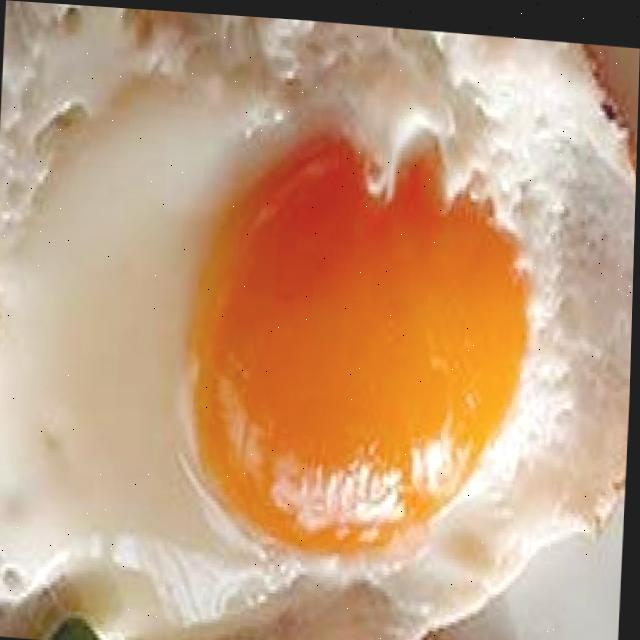鸡蛋料理: (17, 2, 609, 640)
